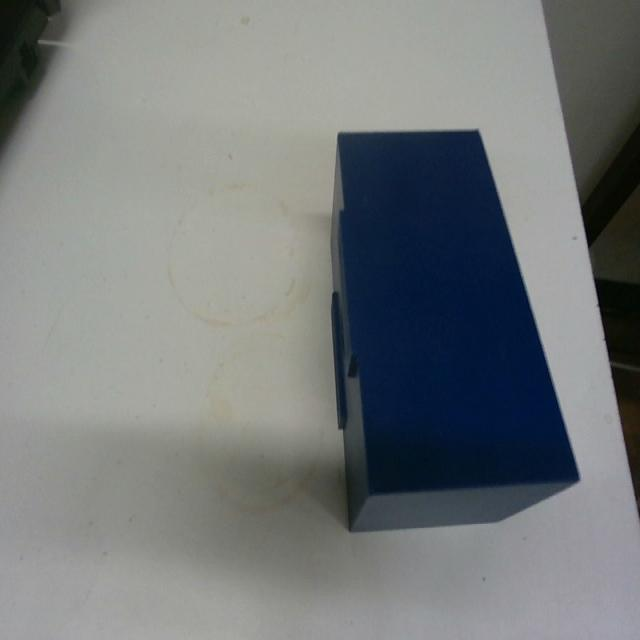Blue Cuboid: (327, 124, 581, 533)
